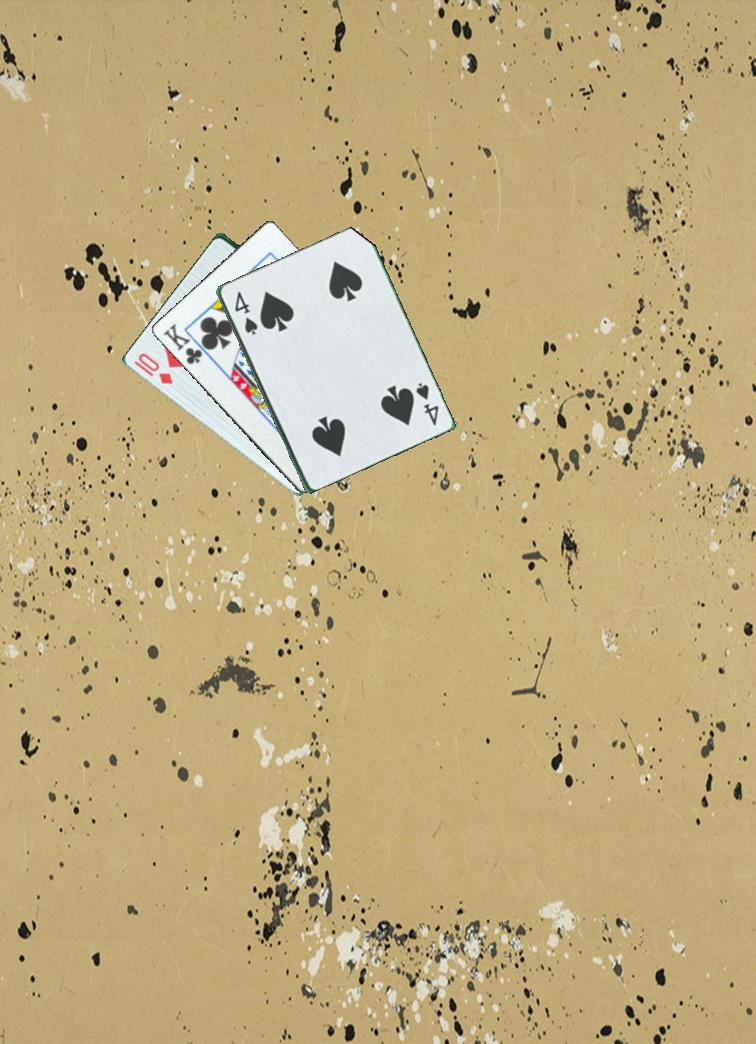4s: (407, 379, 442, 428), (231, 288, 260, 338)
kc: (157, 320, 205, 367)
td: (134, 349, 176, 387)
